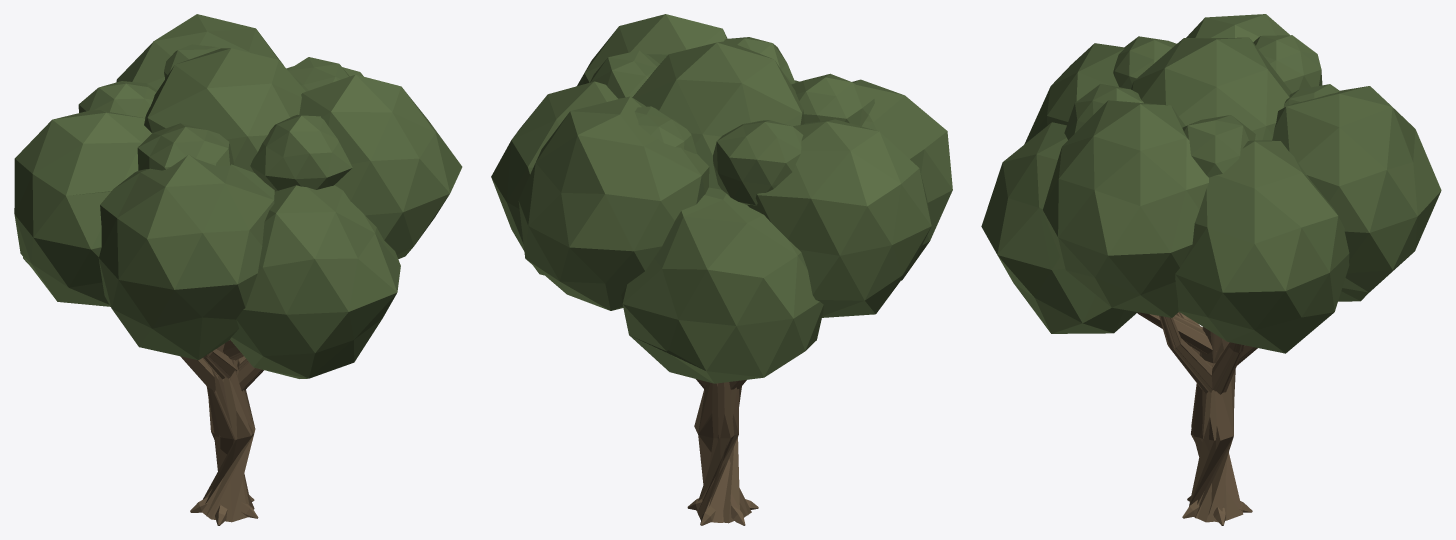
The model's file is oak.glb.
3 views of the same model, side by side, from view 1: azimuth 30°, elevation 25°; view 2: azimuth 150°, elevation 25°; view 3: azimuth 270°, elevation 25° (orthographic). The views are drawn at different scales.
Visible parts, largest first — view 1: oak_detail, oak_medium, oak_far; view 2: oak_detail, oak_medium, oak_far; view 3: oak_detail, oak_medium, oak_far.
Part boxes in pixels (x1,y1,x2,y2): oak_detail: [14, 14, 462, 525]; oak_medium: [69, 190, 262, 516]; oak_far: [197, 351, 255, 521]; oak_detail: [491, 14, 952, 525]; oak_medium: [632, 336, 748, 523]; oak_far: [698, 383, 739, 513]; oak_detail: [981, 14, 1441, 525]; oak_medium: [1137, 312, 1255, 522]; oak_far: [1148, 314, 1244, 514].
Size of the model in its own units: 7.24 by 8.06 by 7.09.
